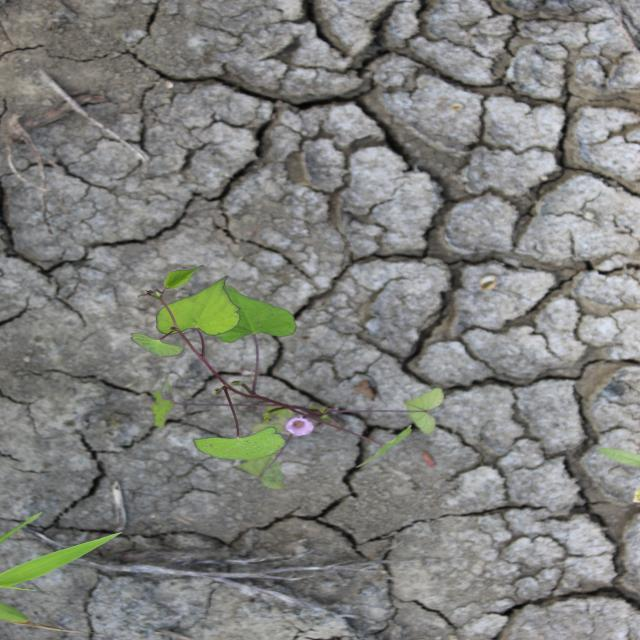MorningGlory: (129, 263, 448, 491)
